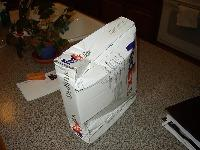undamaged: (49, 12, 141, 144)
